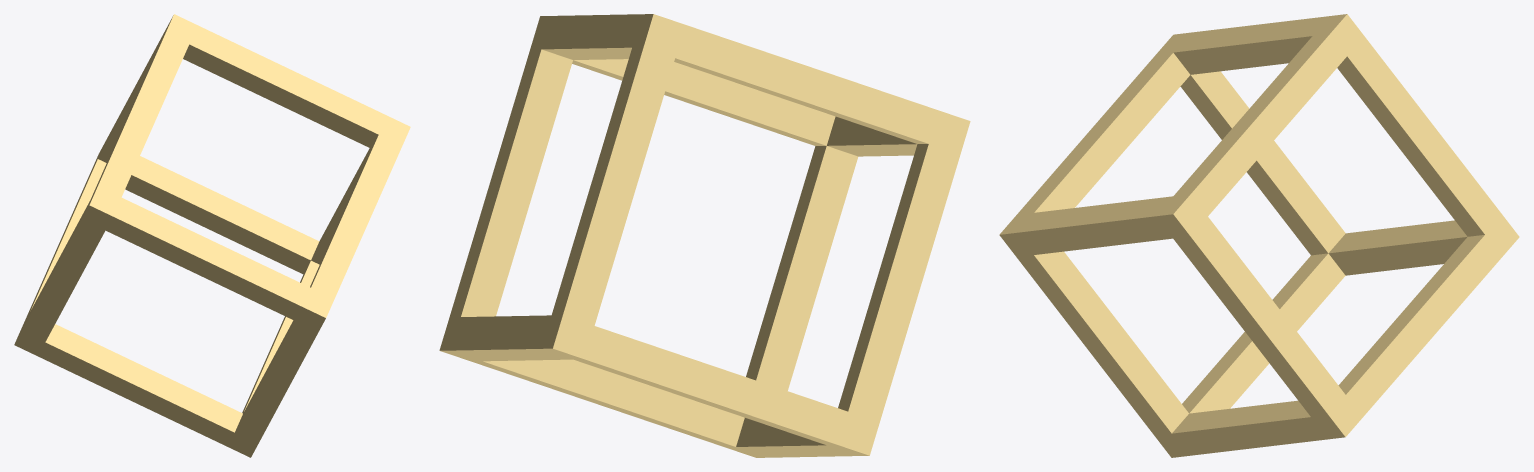
3 renders of one model, left to right at view 1: azimuth 30°, elevation 25°; view 2: azimuth 150°, elevation 25°; view 3: azimuth 270°, elevation 25°, orthographic. The views are drawn at different scales.
Visible parts, largest first — view 1: Cube; view 2: Cube; view 3: Cube.
Boxes of the visible parts, box(x1,y1,x2,y2) form: Cube: box(14, 14, 410, 457); Cube: box(439, 14, 970, 457); Cube: box(999, 14, 1519, 457).
Bounding box in the file's own units: 2.83 × 3.26 × 3.46.
